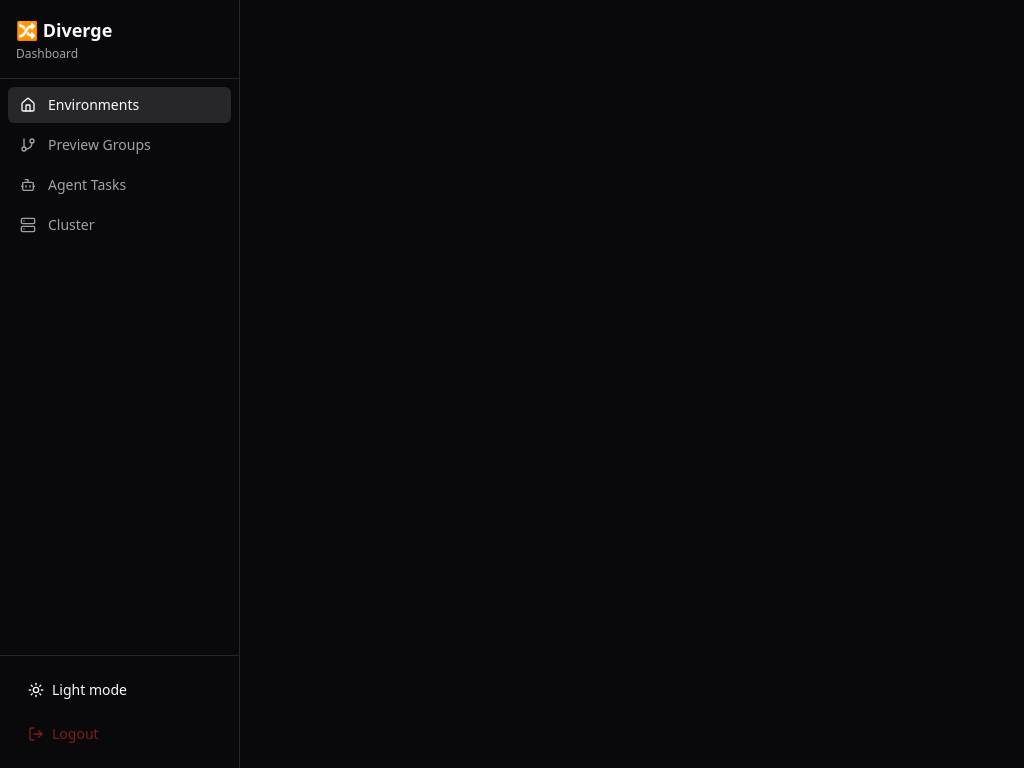
Test: Layout › Theme toggle button works
What coordinates should you click on to do the following:
click the button "Light mode"
I would click on:
 (120, 690)
Its box is [16,672,223,708].
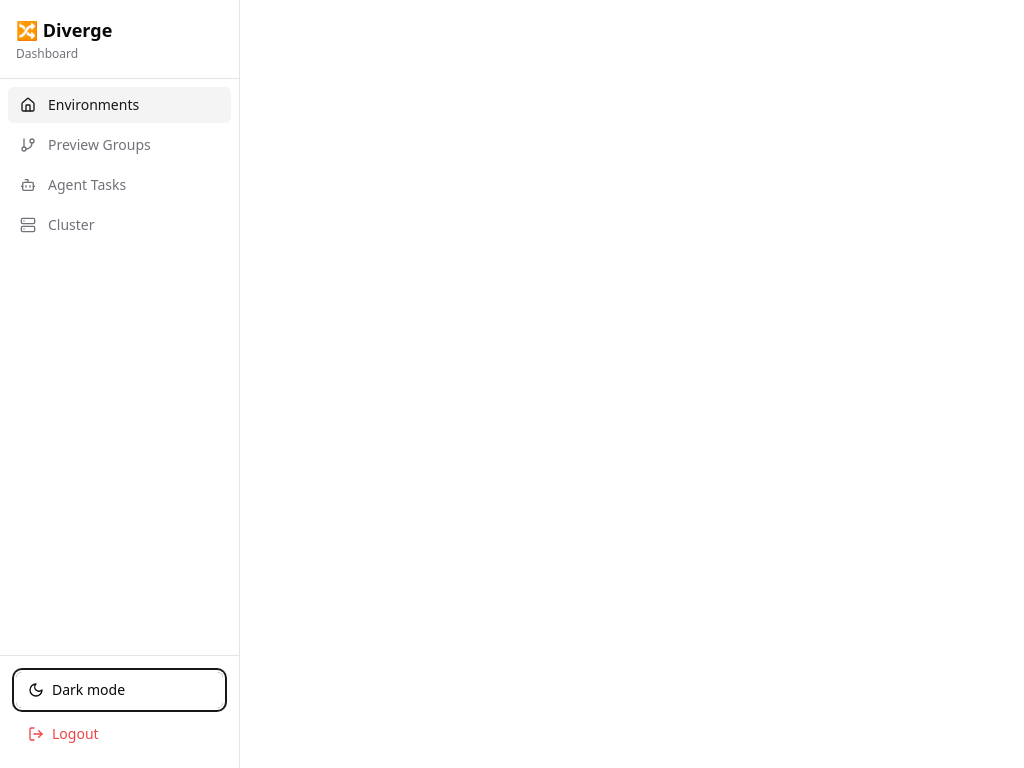
Expected: the button "Dark mode" is shown, [16,672,223,708]
